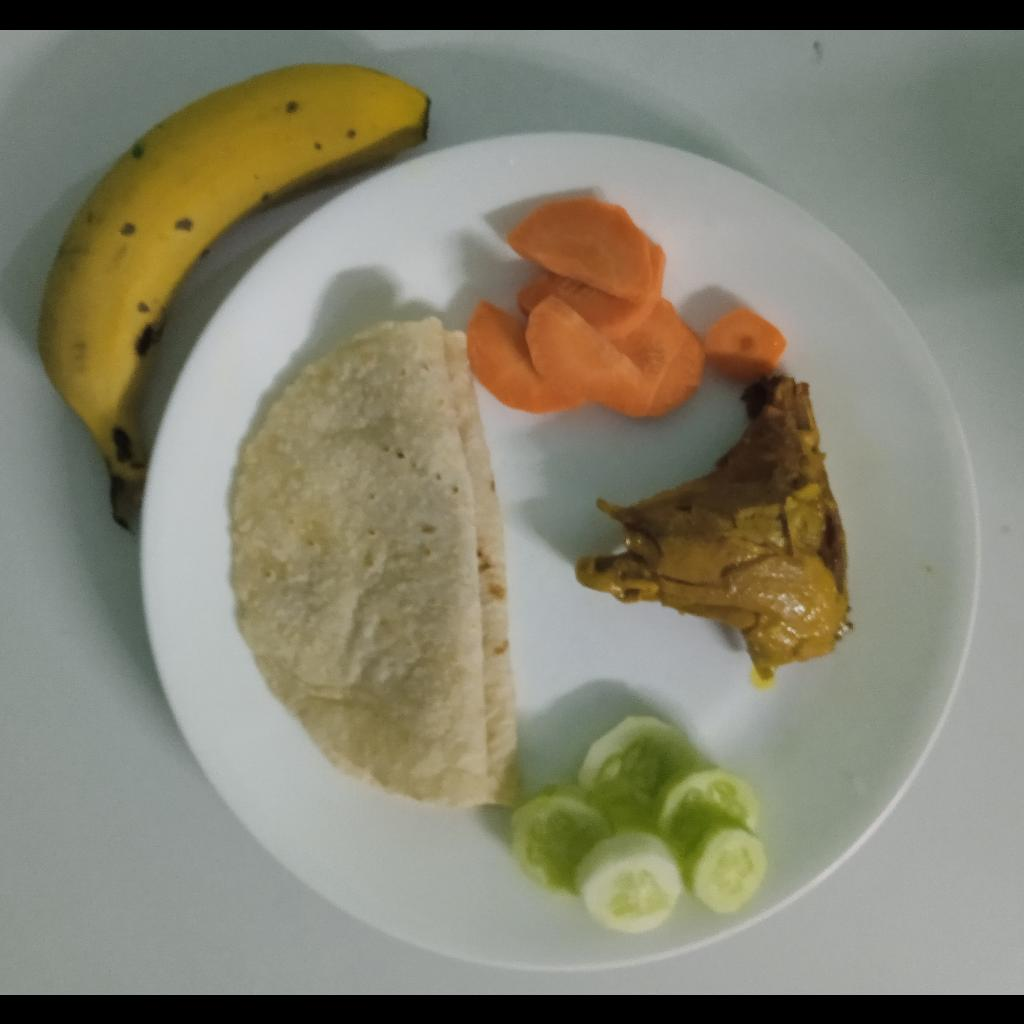banana: (34, 63, 431, 535)
carrot: (467, 194, 786, 420)
chicken: (570, 376, 856, 682)
cucumber: (510, 717, 765, 933)
ruti: (230, 315, 522, 809)
